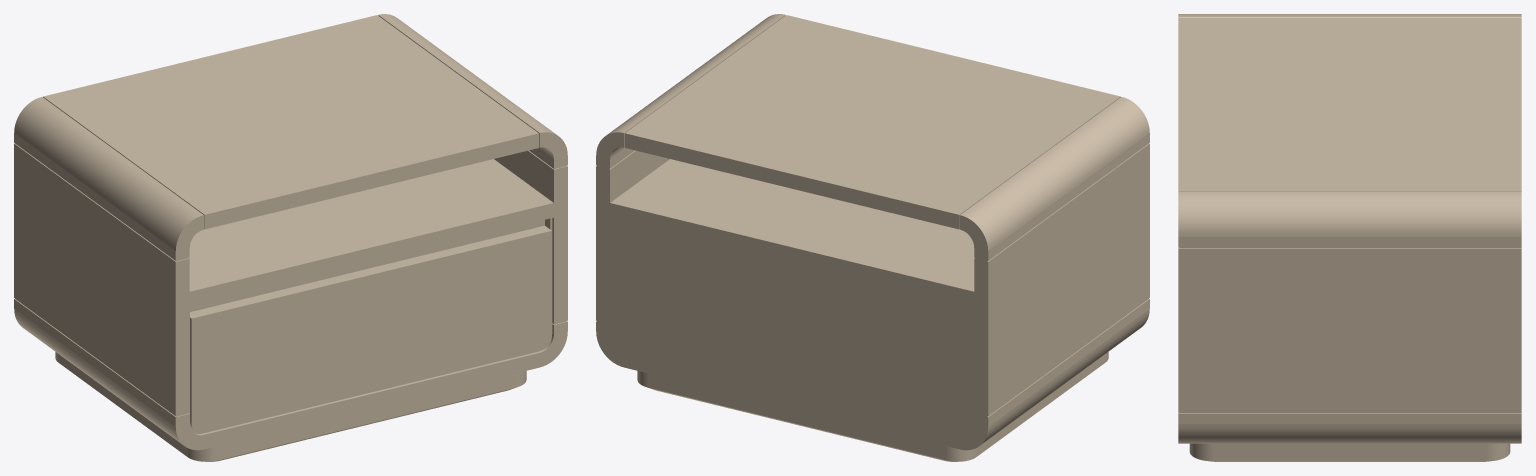
The model's file is nightstand.glb.
The picture shows the model from 3 angles, left to right: view 1: azimuth 30°, elevation 25°; view 2: azimuth 150°, elevation 25°; view 3: azimuth 270°, elevation 25°; orthographic projection. The views are drawn at different scales.
Visible parts, largest first — view 1: Mesh1 Group1 Model; view 2: Mesh1 Group1 Model; view 3: Mesh1 Group1 Model.
Boxes of the visible parts, x1,y1,x2,y2 form: Mesh1 Group1 Model: (14, 14, 567, 461); Mesh1 Group1 Model: (596, 14, 1149, 461); Mesh1 Group1 Model: (1178, 14, 1521, 461).
Bounding box in the file's own units: 1.75 × 1.1 × 1.25.
